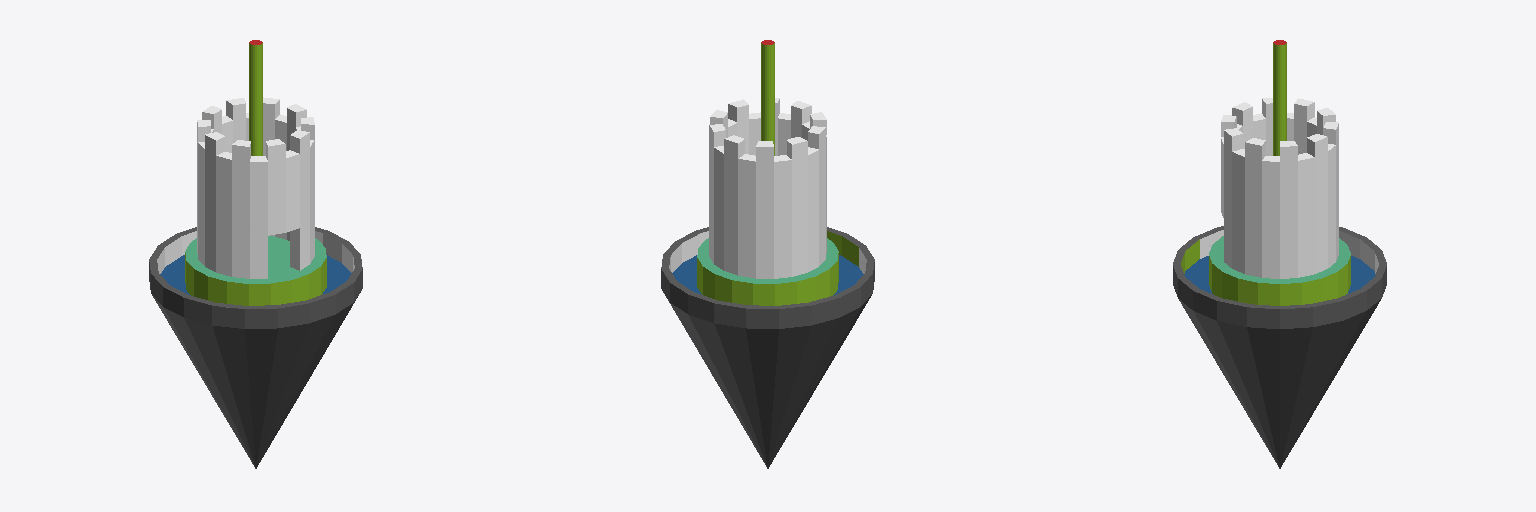
3 views of the same model, side by side, from view 1: azimuth 30°, elevation 25°; view 2: azimuth 150°, elevation 25°; view 3: azimuth 270°, elevation 25° (orthographic).
Visible parts, largest first — view 1: pCone1; view 2: pCone1; view 3: pCone1.
Part boxes in pixels (left/top/right/bottom): pCone1: left=149, top=40, right=362, bottom=468; pCone1: left=661, top=40, right=874, bottom=468; pCone1: left=1173, top=40, right=1386, bottom=468.
Size of the model in its own units: 19.51 by 42.79 by 19.51.
1 materials, 1 textured.